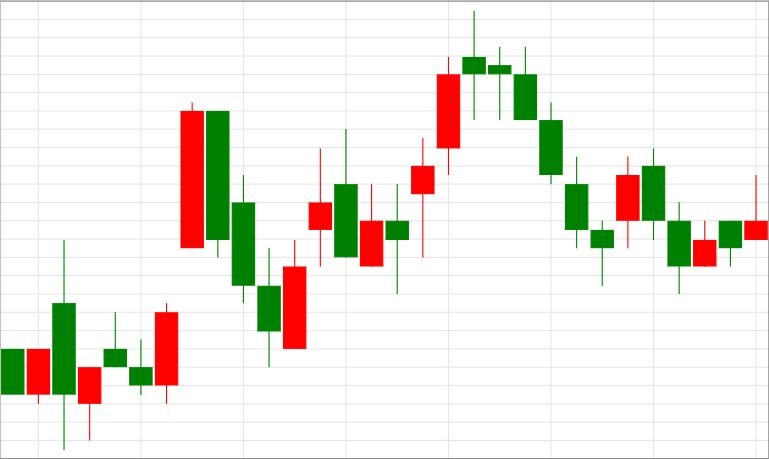morning_star_rise: (463, 10, 639, 287)
